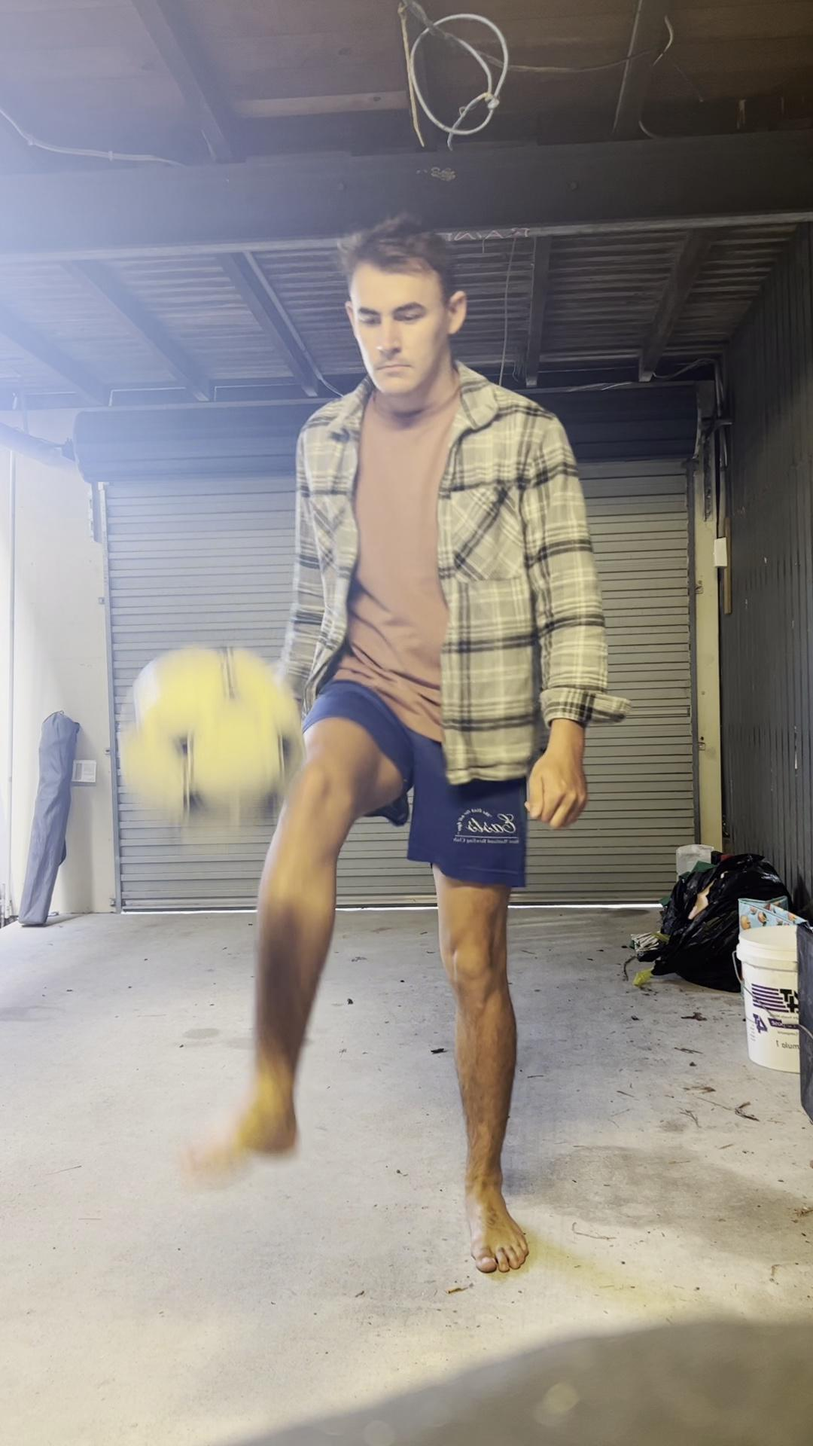ball: (122, 642, 298, 836)
foot: (188, 1062, 295, 1178), (463, 1170, 530, 1276)
person: (181, 218, 614, 1267)
